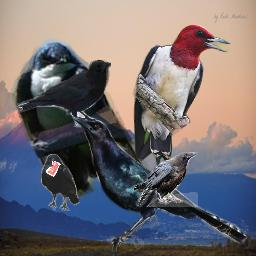Crow: (73, 118, 247, 252), (17, 60, 111, 129), (133, 152, 198, 207), (41, 154, 80, 211)
Swallow: (11, 38, 153, 209)
Woodpecker: (130, 25, 234, 170)
